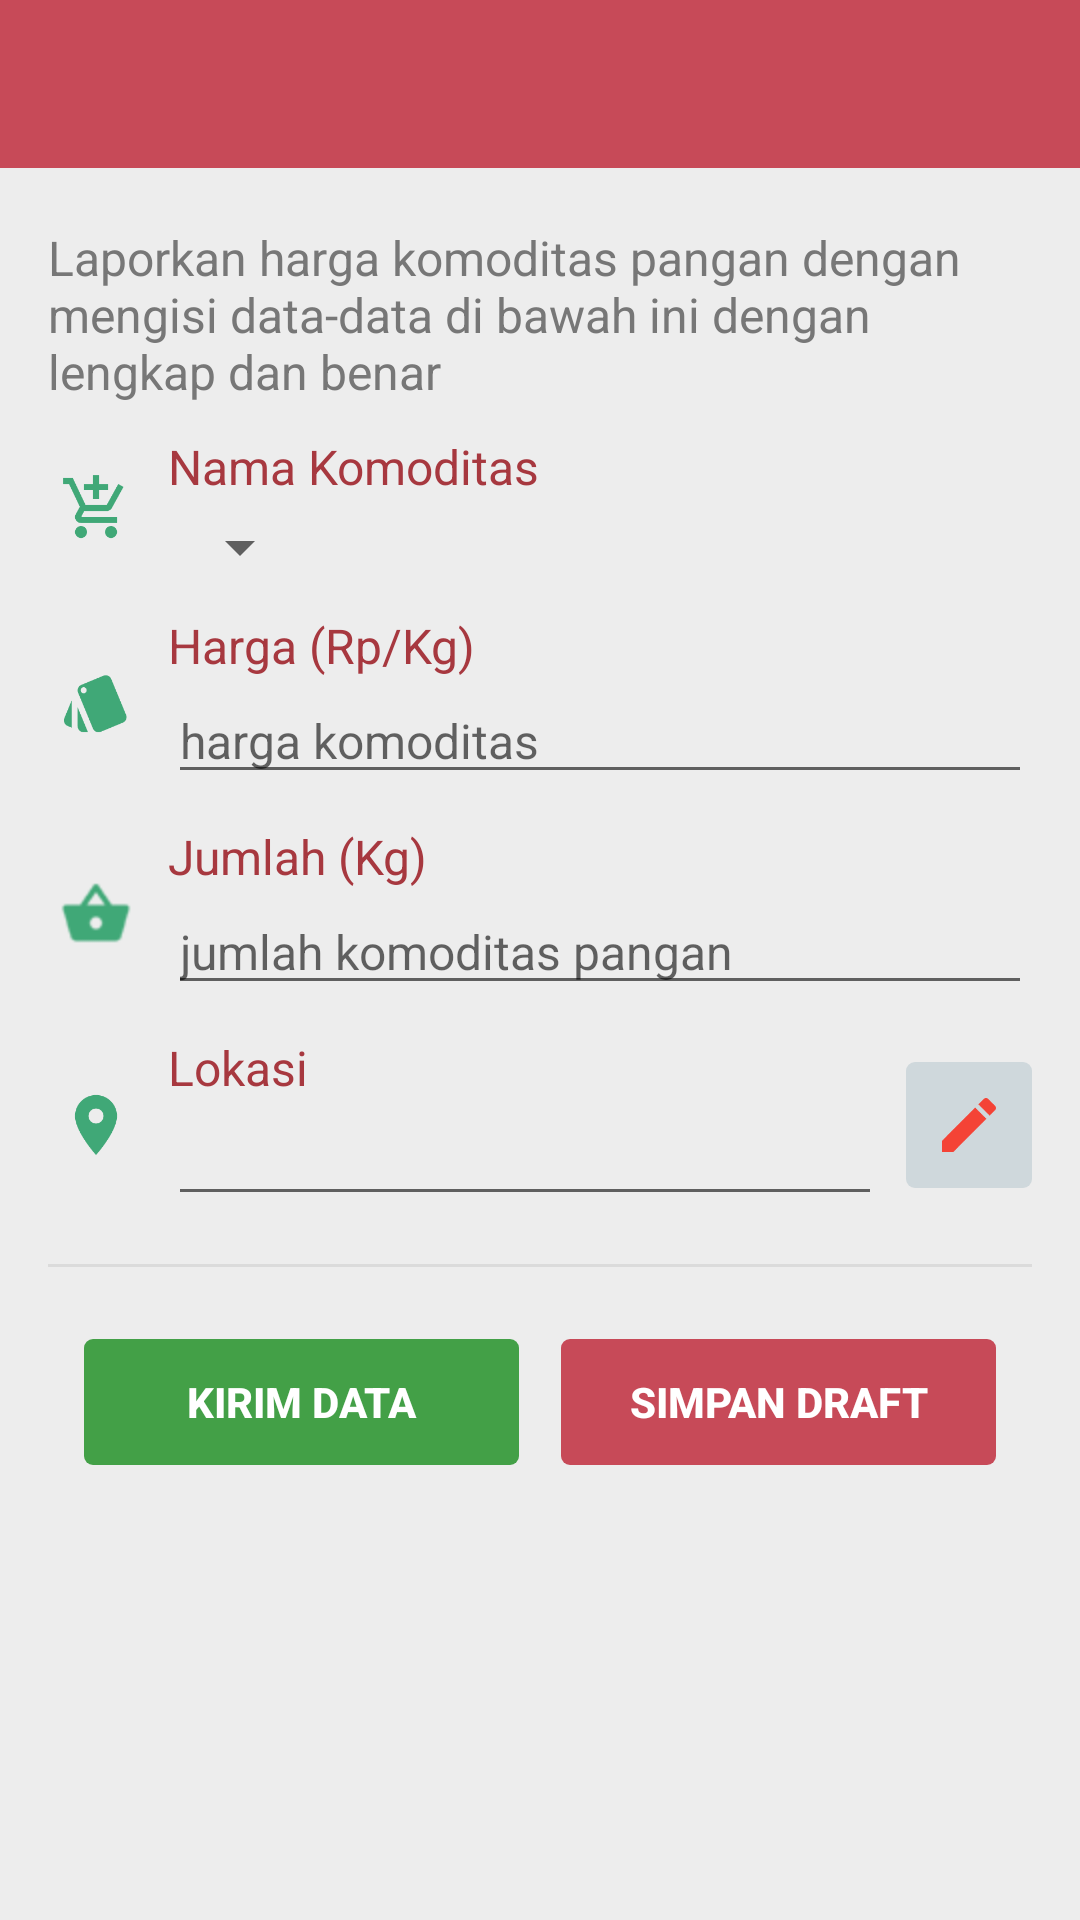

Icon click points for this 1080 x 1920 phone screenshot, format (x,y):
setelpeta: (969,1125)
